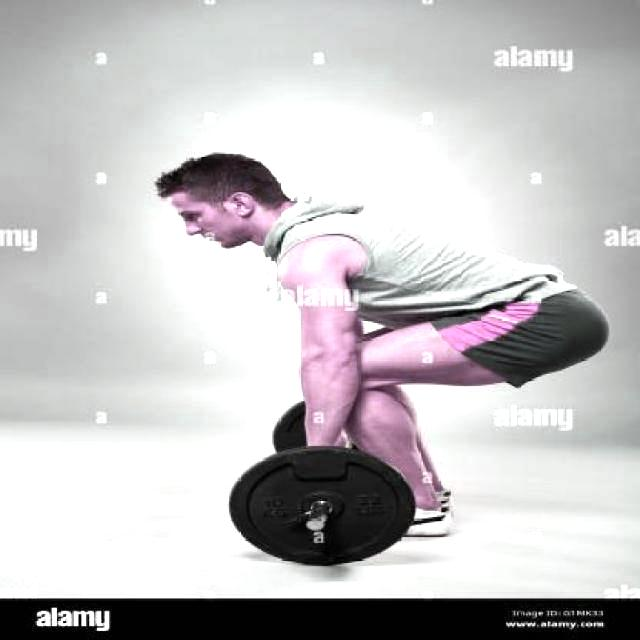barbell: (217, 435, 442, 577)
